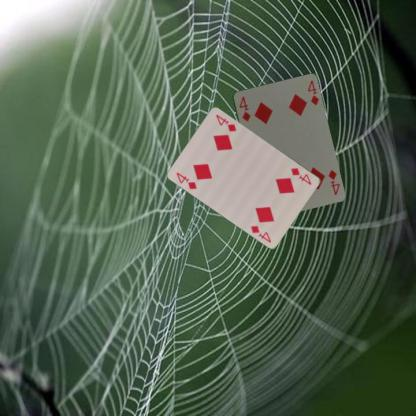4d: (288, 165, 313, 186), (174, 170, 198, 191), (236, 94, 252, 123), (325, 167, 341, 196)
